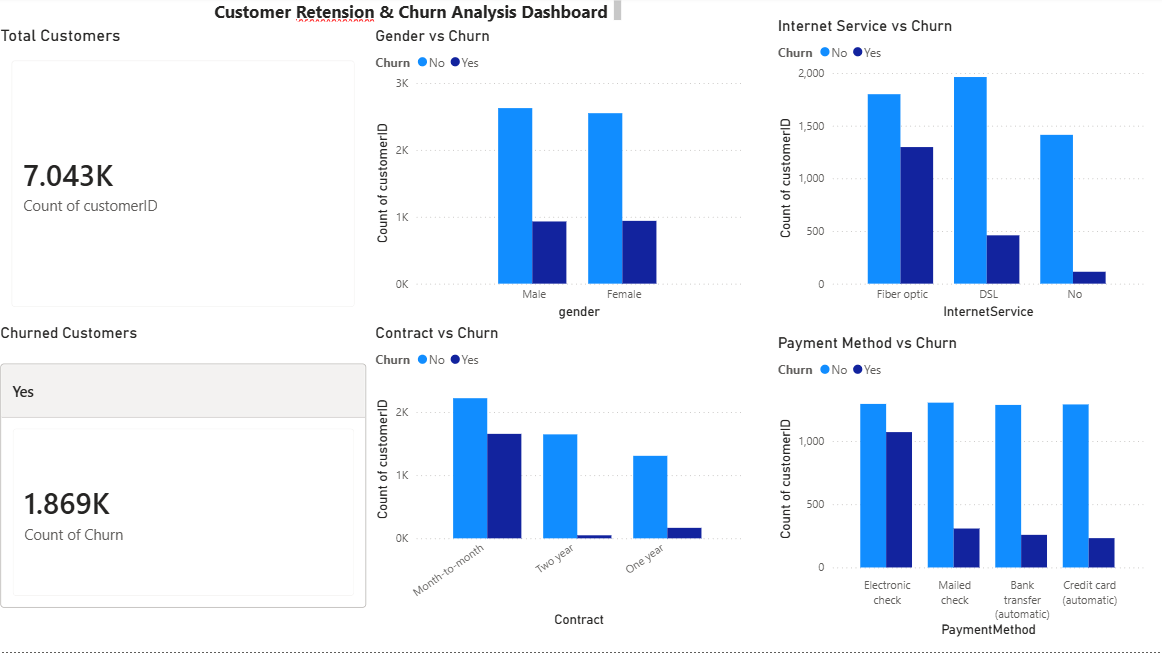

The page's visual inventory and layout, read from the dashboard file:
{"tool":"powerbi","page":{"name":"Page 1","canvas":[1280,720],"ordinal":0},"visuals":[{"type":"cardVisual","title":"Total Customers","fields":{"Data":["Count(WA_Fn-UseC_-Telco-Customer-Churn.customerID)"]},"box":[0,32.9,411.7,326.6],"z":0},{"type":"cardVisual","title":"Churned Customers","fields":{"Rows":["WA_Fn-UseC_-Telco-Customer-Churn.Churn"],"Data":["CountNonNull(WA_Fn-UseC_-Telco-Customer-Churn.Churn)"]},"box":[0,359.5,411.7,337.6],"z":1000},{"type":"clusteredColumnChart","title":" Gender vs Churn","fields":{"Category":["WA_Fn-UseC_-Telco-Customer-Churn.gender"],"Y":["CountNonNull(WA_Fn-UseC_-Telco-Customer-Churn.customerID)"],"Series":["WA_Fn-UseC_-Telco-Customer-Churn.Churn"]},"box":[411.7,32.9,411.7,326.6],"z":1001},{"type":"clusteredColumnChart","title":"Contract vs Churn","fields":{"Category":["WA_Fn-UseC_-Telco-Customer-Churn.Contract"],"Y":["CountNonNull(WA_Fn-UseC_-Telco-Customer-Churn.customerID)"],"Series":["WA_Fn-UseC_-Telco-Customer-Churn.Churn"]},"box":[411.7,359.5,411.7,337.6],"z":1002},{"type":"clusteredColumnChart","title":"Internet Service vs Churn","fields":{"Category":["WA_Fn-UseC_-Telco-Customer-Churn.InternetService"],"Y":["CountNonNull(WA_Fn-UseC_-Telco-Customer-Churn.customerID)"],"Series":["WA_Fn-UseC_-Telco-Customer-Churn.Churn"]},"box":[853.5,22,411.7,337.6],"z":1003},{"type":"clusteredColumnChart","title":"Payment Method vs Churn","fields":{"Category":["WA_Fn-UseC_-Telco-Customer-Churn.PaymentMethod"],"Y":["CountNonNull(WA_Fn-UseC_-Telco-Customer-Churn.customerID)"],"Series":["WA_Fn-UseC_-Telco-Customer-Churn.Churn"]},"box":[853.5,370.5,411.7,337.6],"z":1004},{"type":"textbox","box":[193.5,0,498.1,32.9],"z":1005}]}

Visuals, with their boxes in screenshot pixels (x1, y1, x2, y2), scaled from the page's 1280x720 canvas onto the 1162x653 screenshot:
"Total Customers" cardVisual: x1=0, y1=30, x2=374, y2=326
"Churned Customers" cardVisual: x1=0, y1=326, x2=374, y2=632
" Gender vs Churn" clusteredColumnChart: x1=374, y1=30, x2=747, y2=326
"Contract vs Churn" clusteredColumnChart: x1=374, y1=326, x2=747, y2=632
"Internet Service vs Churn" clusteredColumnChart: x1=775, y1=20, x2=1149, y2=326
"Payment Method vs Churn" clusteredColumnChart: x1=775, y1=336, x2=1149, y2=642
textbox: x1=176, y1=0, x2=628, y2=30
